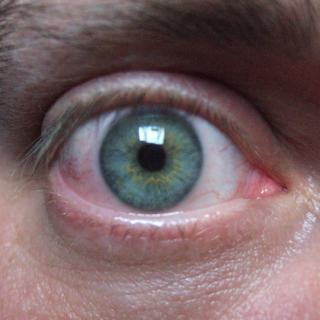pupil: (138, 143, 166, 171)
